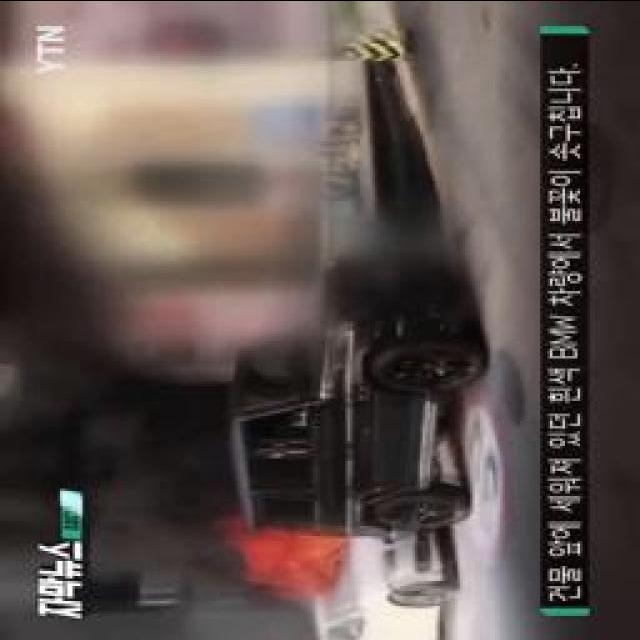Fire: (272, 529, 341, 577)
